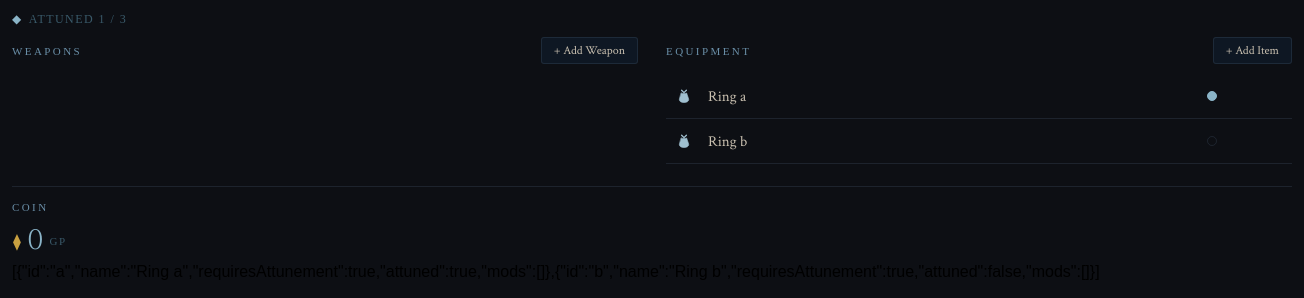
InventoryPanel › shows the attunement count and attunes an item from its gem
This screenshot has width=1304, height=298.
Expected: the text "◆ Attuned 1 / 3" is shown, [12,12,127,26]
Click the button named "Ring b: requires attunement" at (1212, 141), box [1196,119,1228,163]
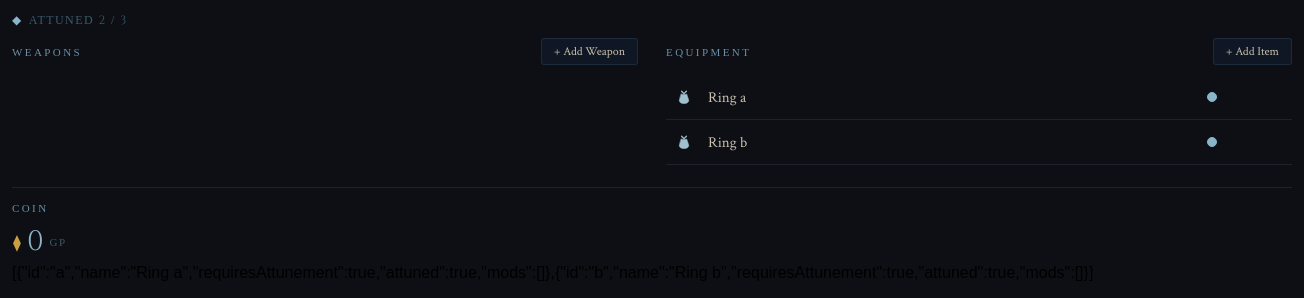
Expected: the text "◆ Attuned 2 / 3" is shown, [12,12,128,27]
